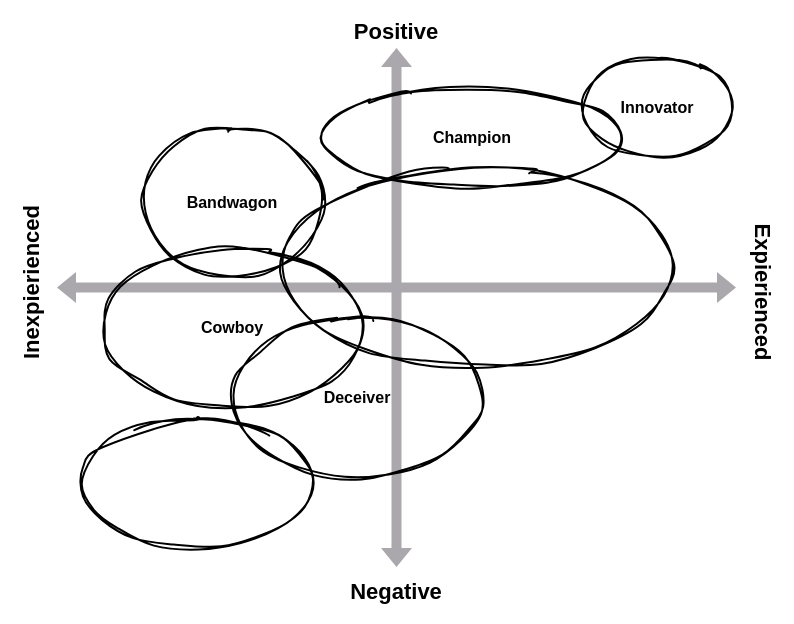
Some shapes in this 794 by 624 pixel diagram are drawn without their labels. The shapes that lost their labels are listed below. From the top down, each one's centre as x and y in pixels, then its label:
At [477,267]: "Workhorse".
At [197,482]: "Denier".
